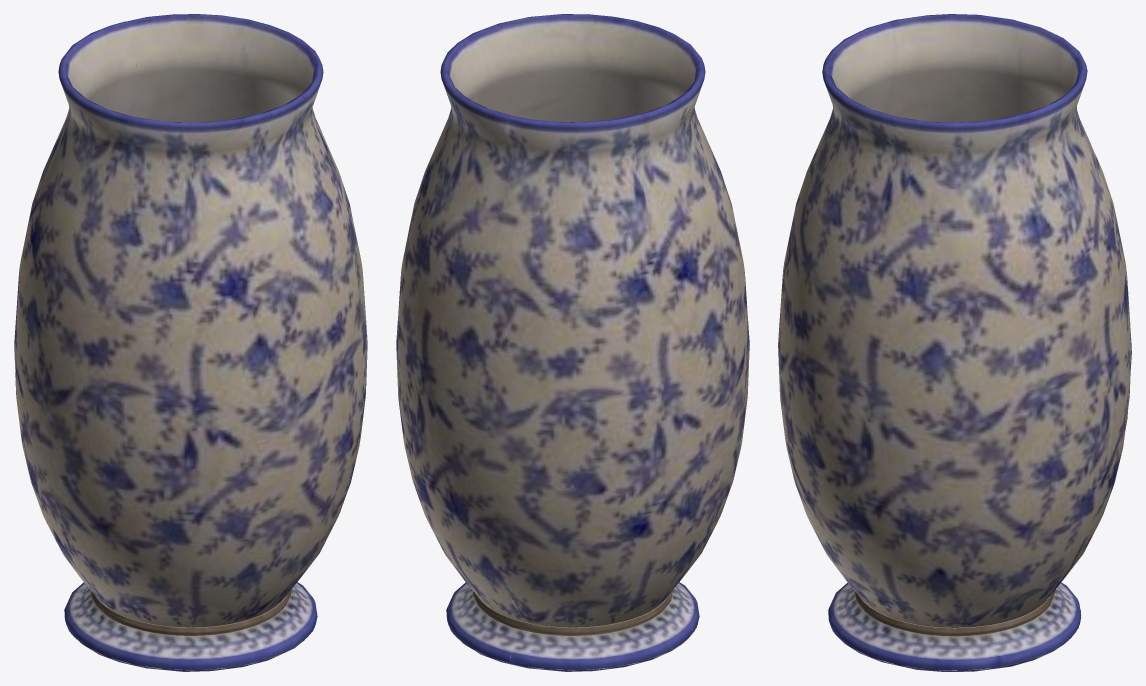
The model's file is ph_antique_ceramic_vase_01.glb.
3 views of the same model, side by side, from view 1: azimuth 30°, elevation 25°; view 2: azimuth 150°, elevation 25°; view 3: azimuth 270°, elevation 25° (orthographic).
Visible parts, largest first — view 1: antique_ceramic_vase_01; view 2: antique_ceramic_vase_01; view 3: antique_ceramic_vase_01.
Boxes of the visible parts, x1,y1,x2,y2 form: antique_ceramic_vase_01: (14, 14, 367, 671); antique_ceramic_vase_01: (396, 14, 749, 671); antique_ceramic_vase_01: (778, 14, 1131, 671).
Bounding box in the file's own units: 0.2554 × 0.4397 × 0.2556.
Materials: 1 (1 with a texture image).
